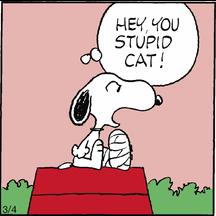snoopy: (58, 70, 166, 172)
